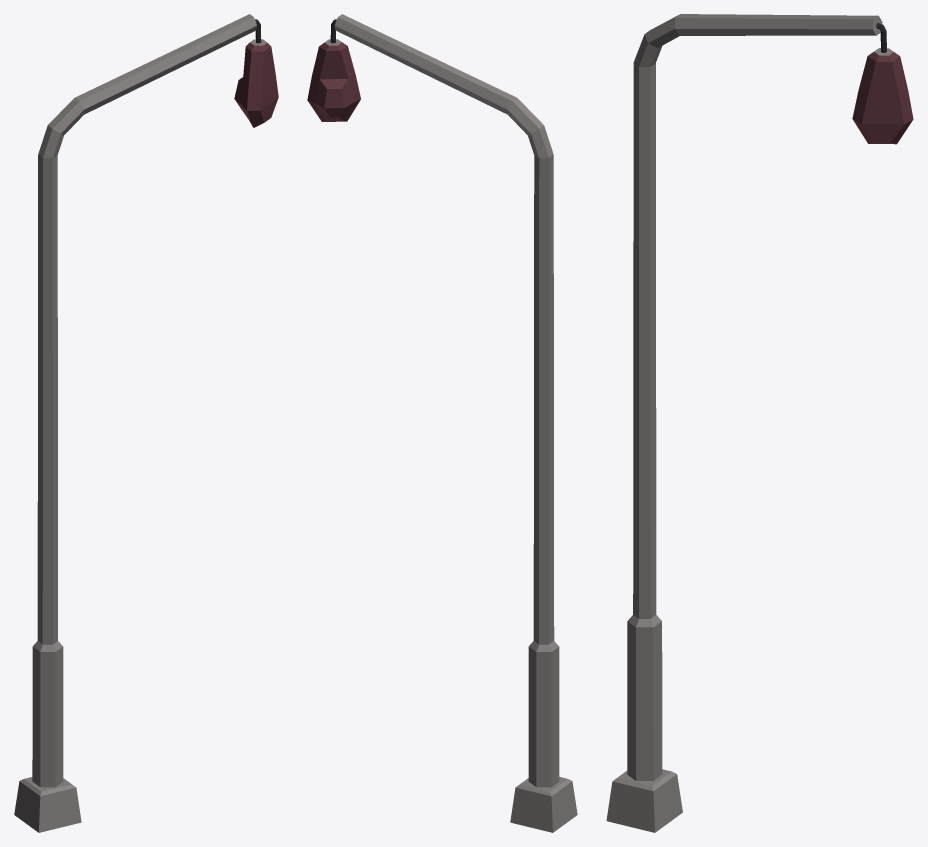
File: lamp-road-apocalypse-a.fbx
3 views of the same model, side by side, from view 1: azimuth 30°, elevation 25°; view 2: azimuth 150°, elevation 25°; view 3: azimuth 330°, elevation 25° (orthographic). The views are drawn at different scales.
Visible parts, largest first — view 1: lamp-road-apocalypse-a; view 2: lamp-road-apocalypse-a; view 3: lamp-road-apocalypse-a.
Boxes of the visible parts, box(x1,y1,x2,y2) form: lamp-road-apocalypse-a: box(14, 14, 278, 832); lamp-road-apocalypse-a: box(307, 14, 577, 832); lamp-road-apocalypse-a: box(606, 14, 913, 832).
Size of the model in its own units: 3.25 by 9.26 by 0.5498.
